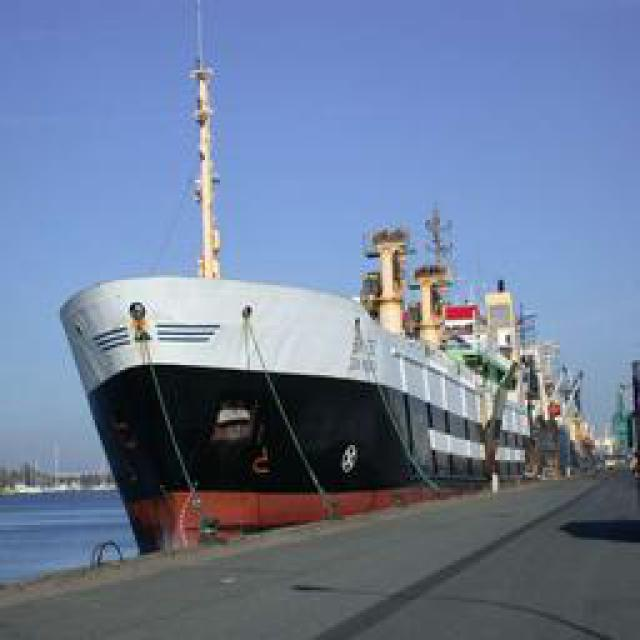Ship: (68, 9, 579, 563)
